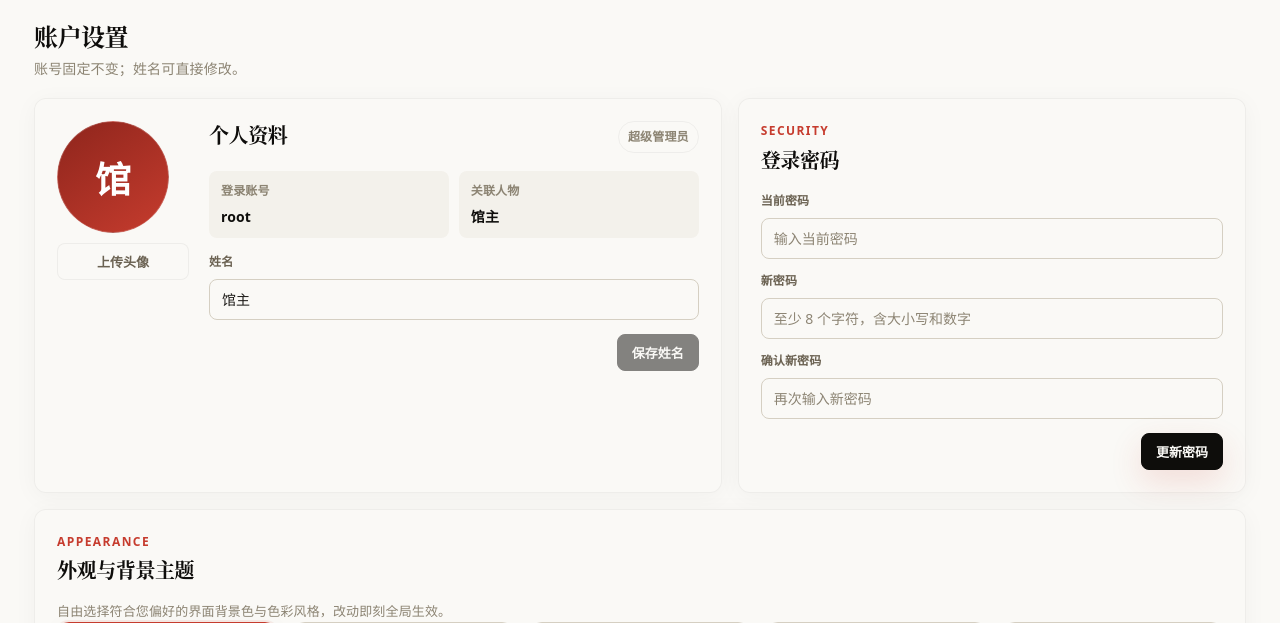
Test: SettingsView › blocks a password that does not meet the server strength policy
Type "123456" into the password field labelled "当前密码" at (992, 239), box left=761, top=218, right=1223, bottom=259
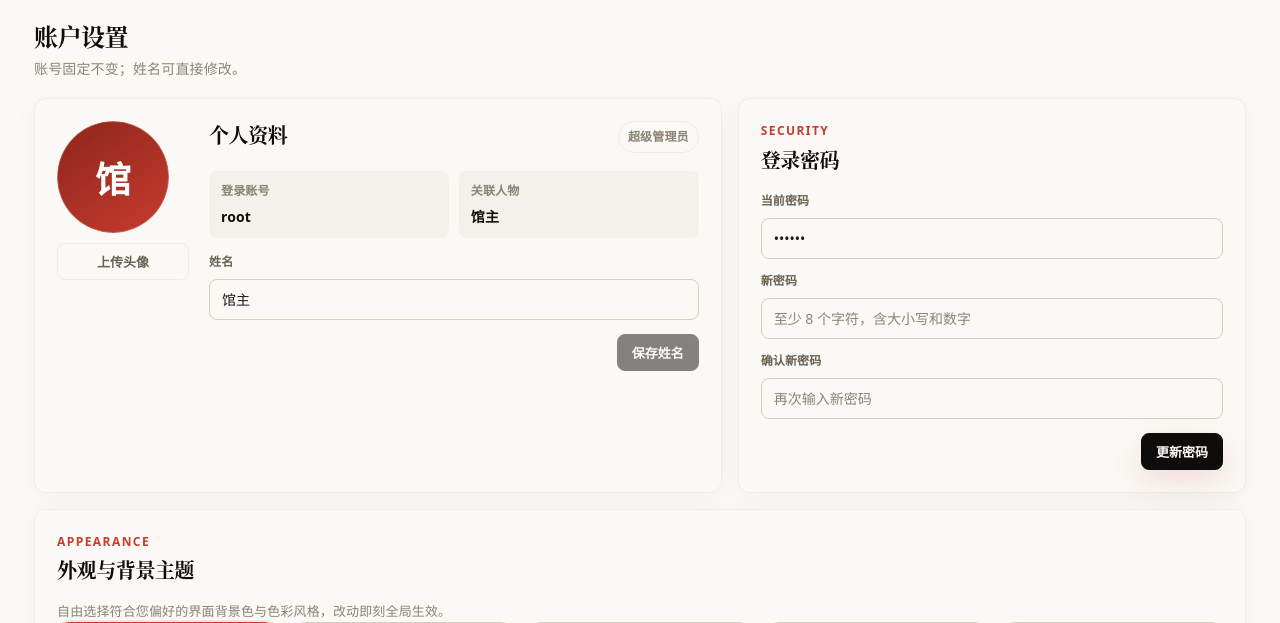
Type "weakpass" into the password field labelled "新密码" at (992, 318), box left=761, top=298, right=1223, bottom=339
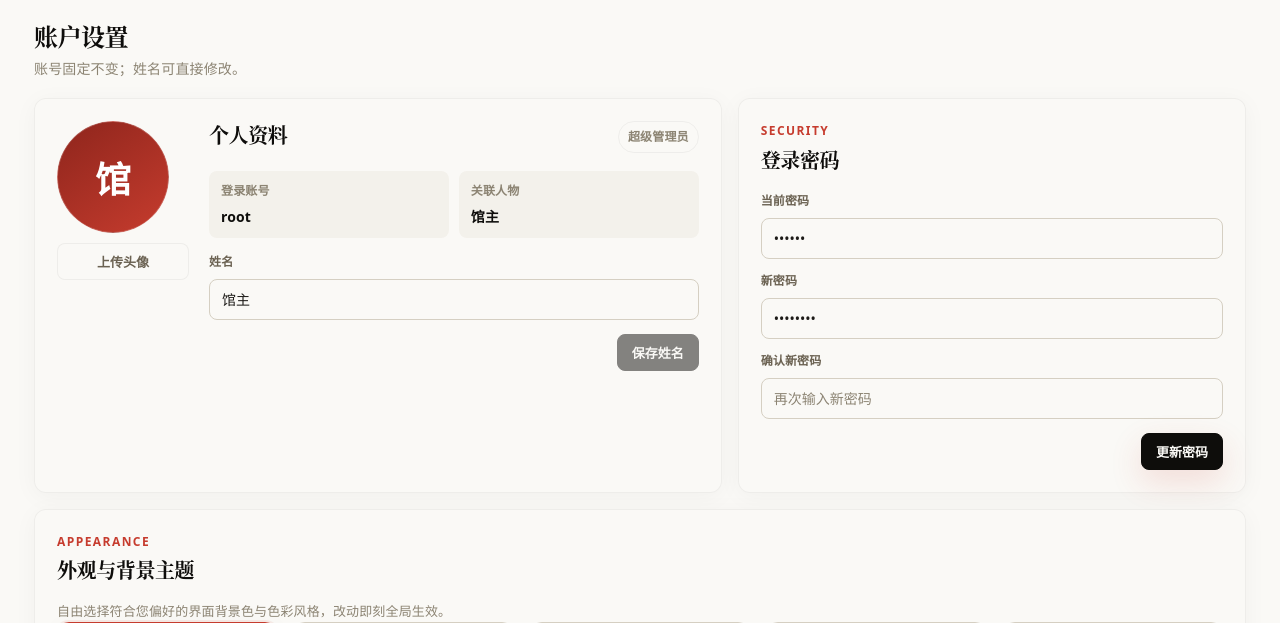
Type "weakpass" into the password field labelled "确认新密码" at (992, 398), box left=761, top=378, right=1223, bottom=419
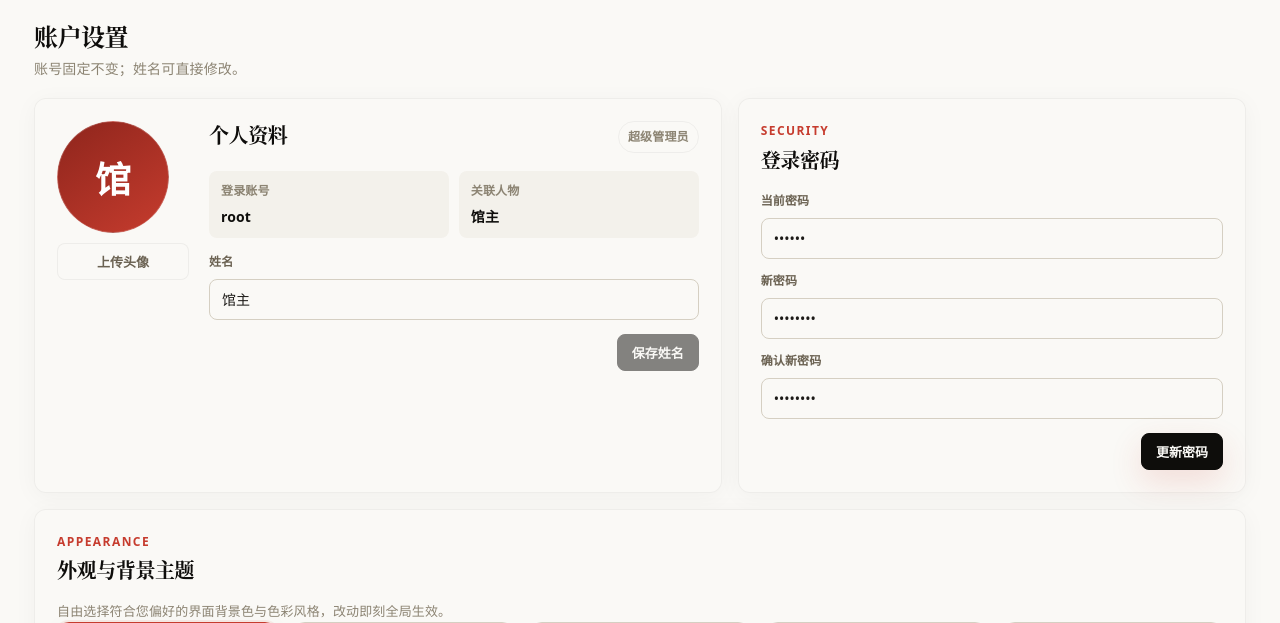
Click the button "更新密码" at (1182, 451), box left=1141, top=433, right=1223, bottom=470
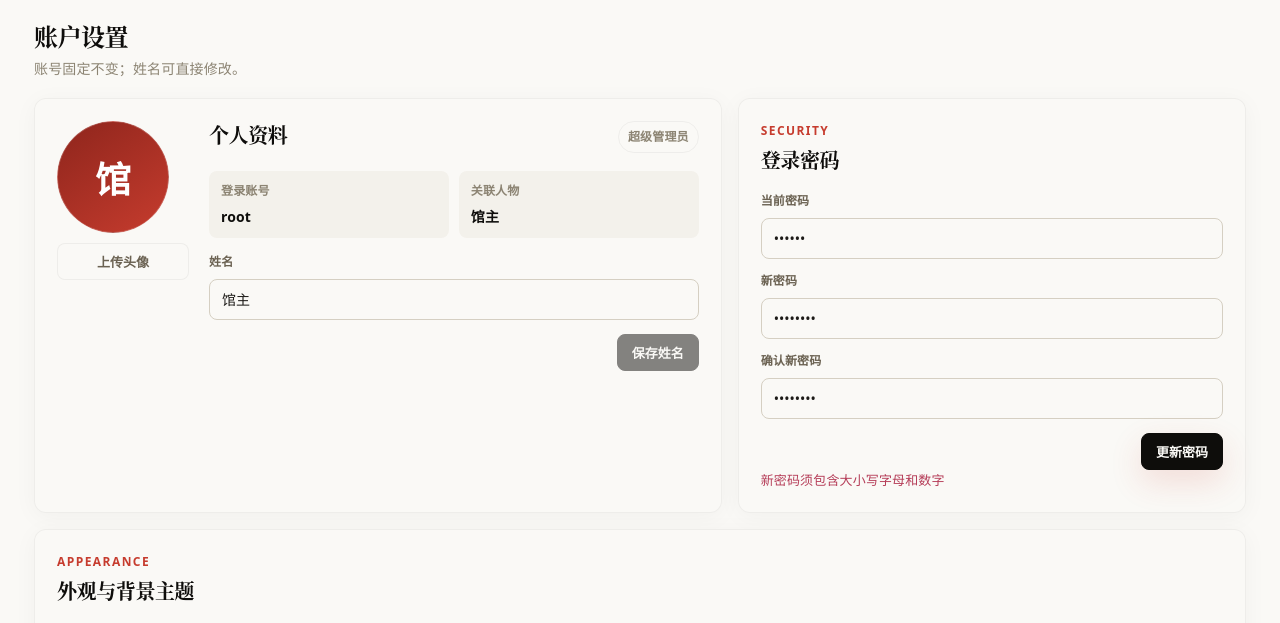
Result: the text "新密码须包含大小写字母和数字" is shown at left=761, top=471, right=945, bottom=489
